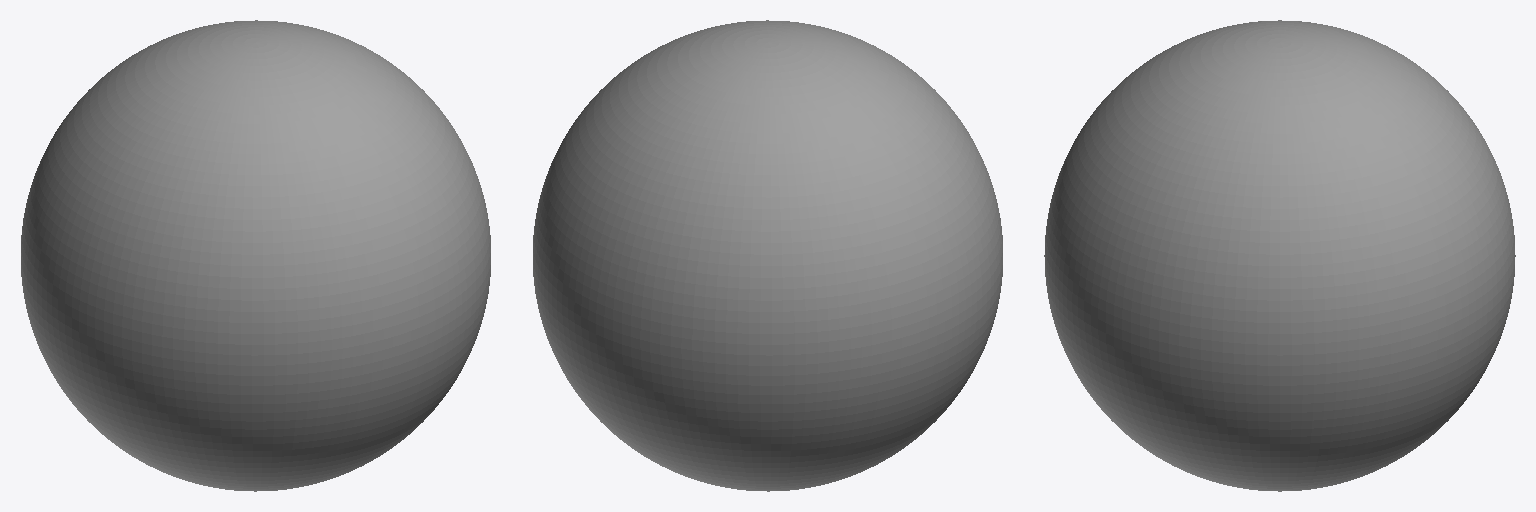
The model's file is earth.obj.
The picture shows the model from 3 angles: view 1: azimuth 30°, elevation 25°; view 2: azimuth 150°, elevation 25°; view 3: azimuth 270°, elevation 25°; orthographic projection.
Visible parts, largest first — view 1: Earth_Sphere; view 2: Earth_Sphere; view 3: Earth_Sphere.
Boxes of the visible parts, <box> form: Earth_Sphere: <box>21,20,490,491</box>; Earth_Sphere: <box>533,20,1002,491</box>; Earth_Sphere: <box>1044,20,1515,491</box>.
Bounding box in the file's own units: 2 × 2 × 2.